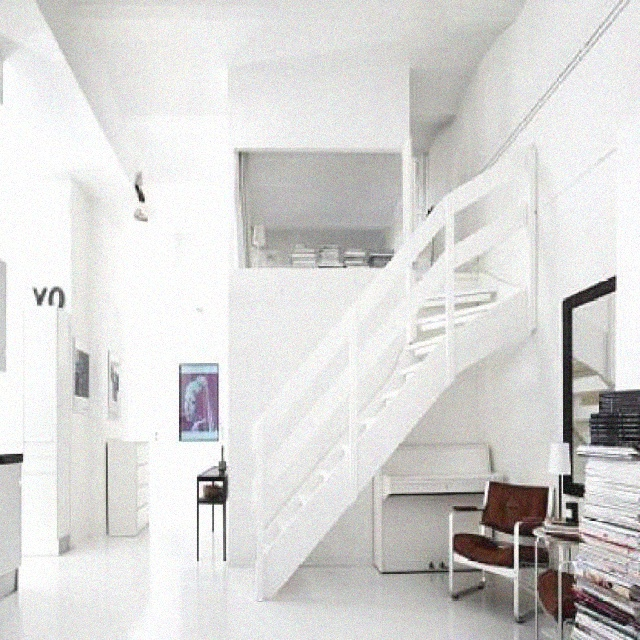stair: (227, 138, 542, 624)
